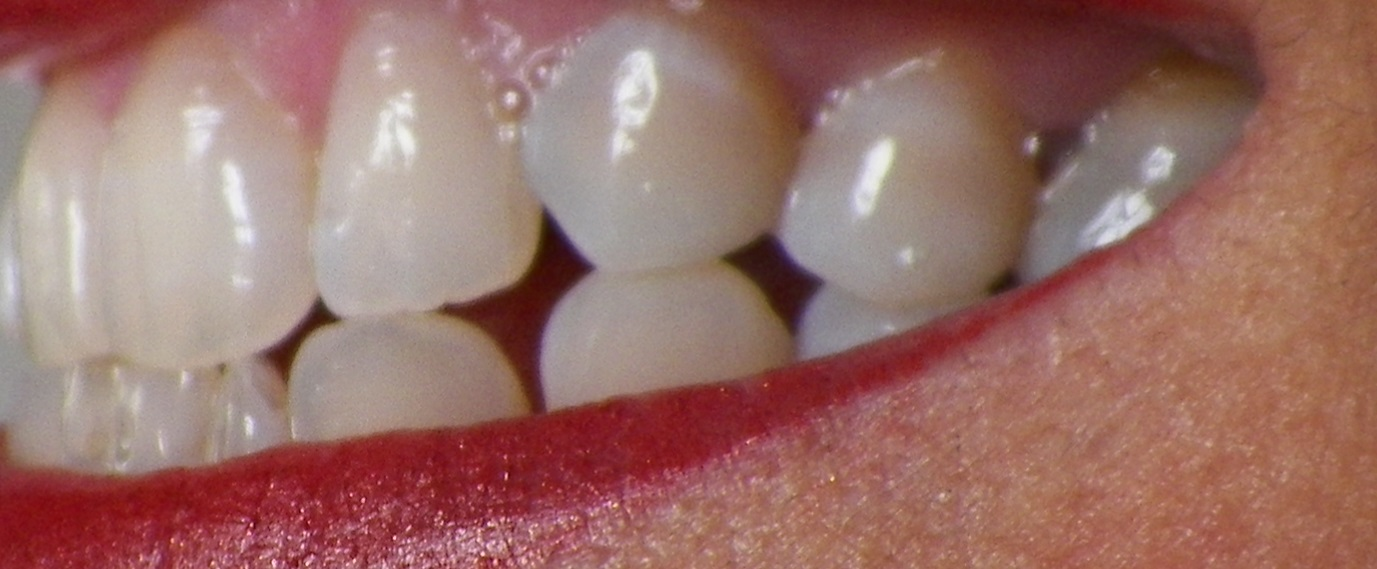boca: (1, 29, 1260, 486)
